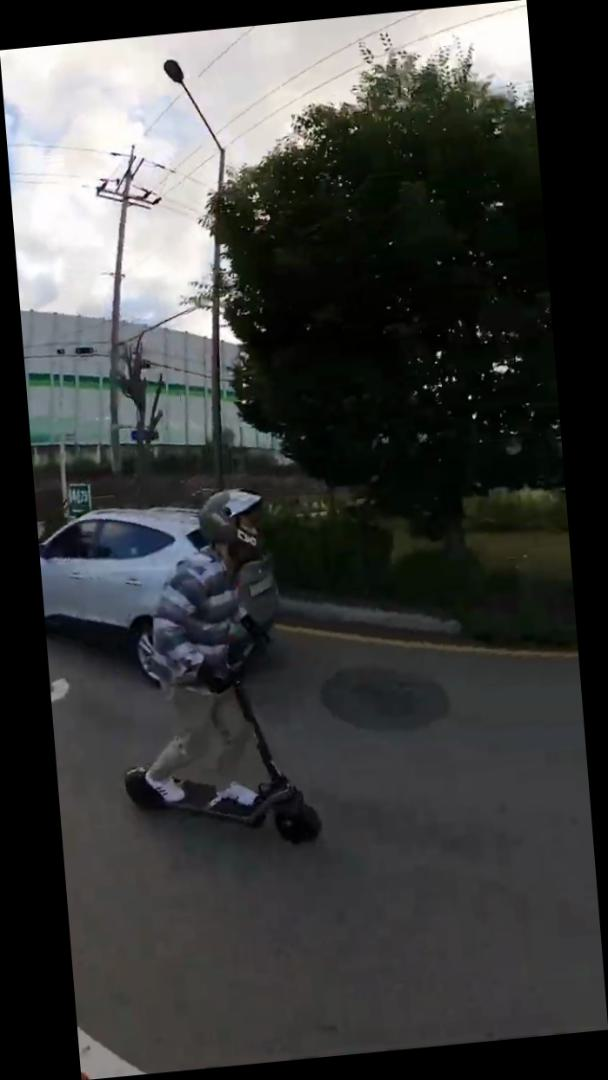helmet: (97, 472, 330, 863)
